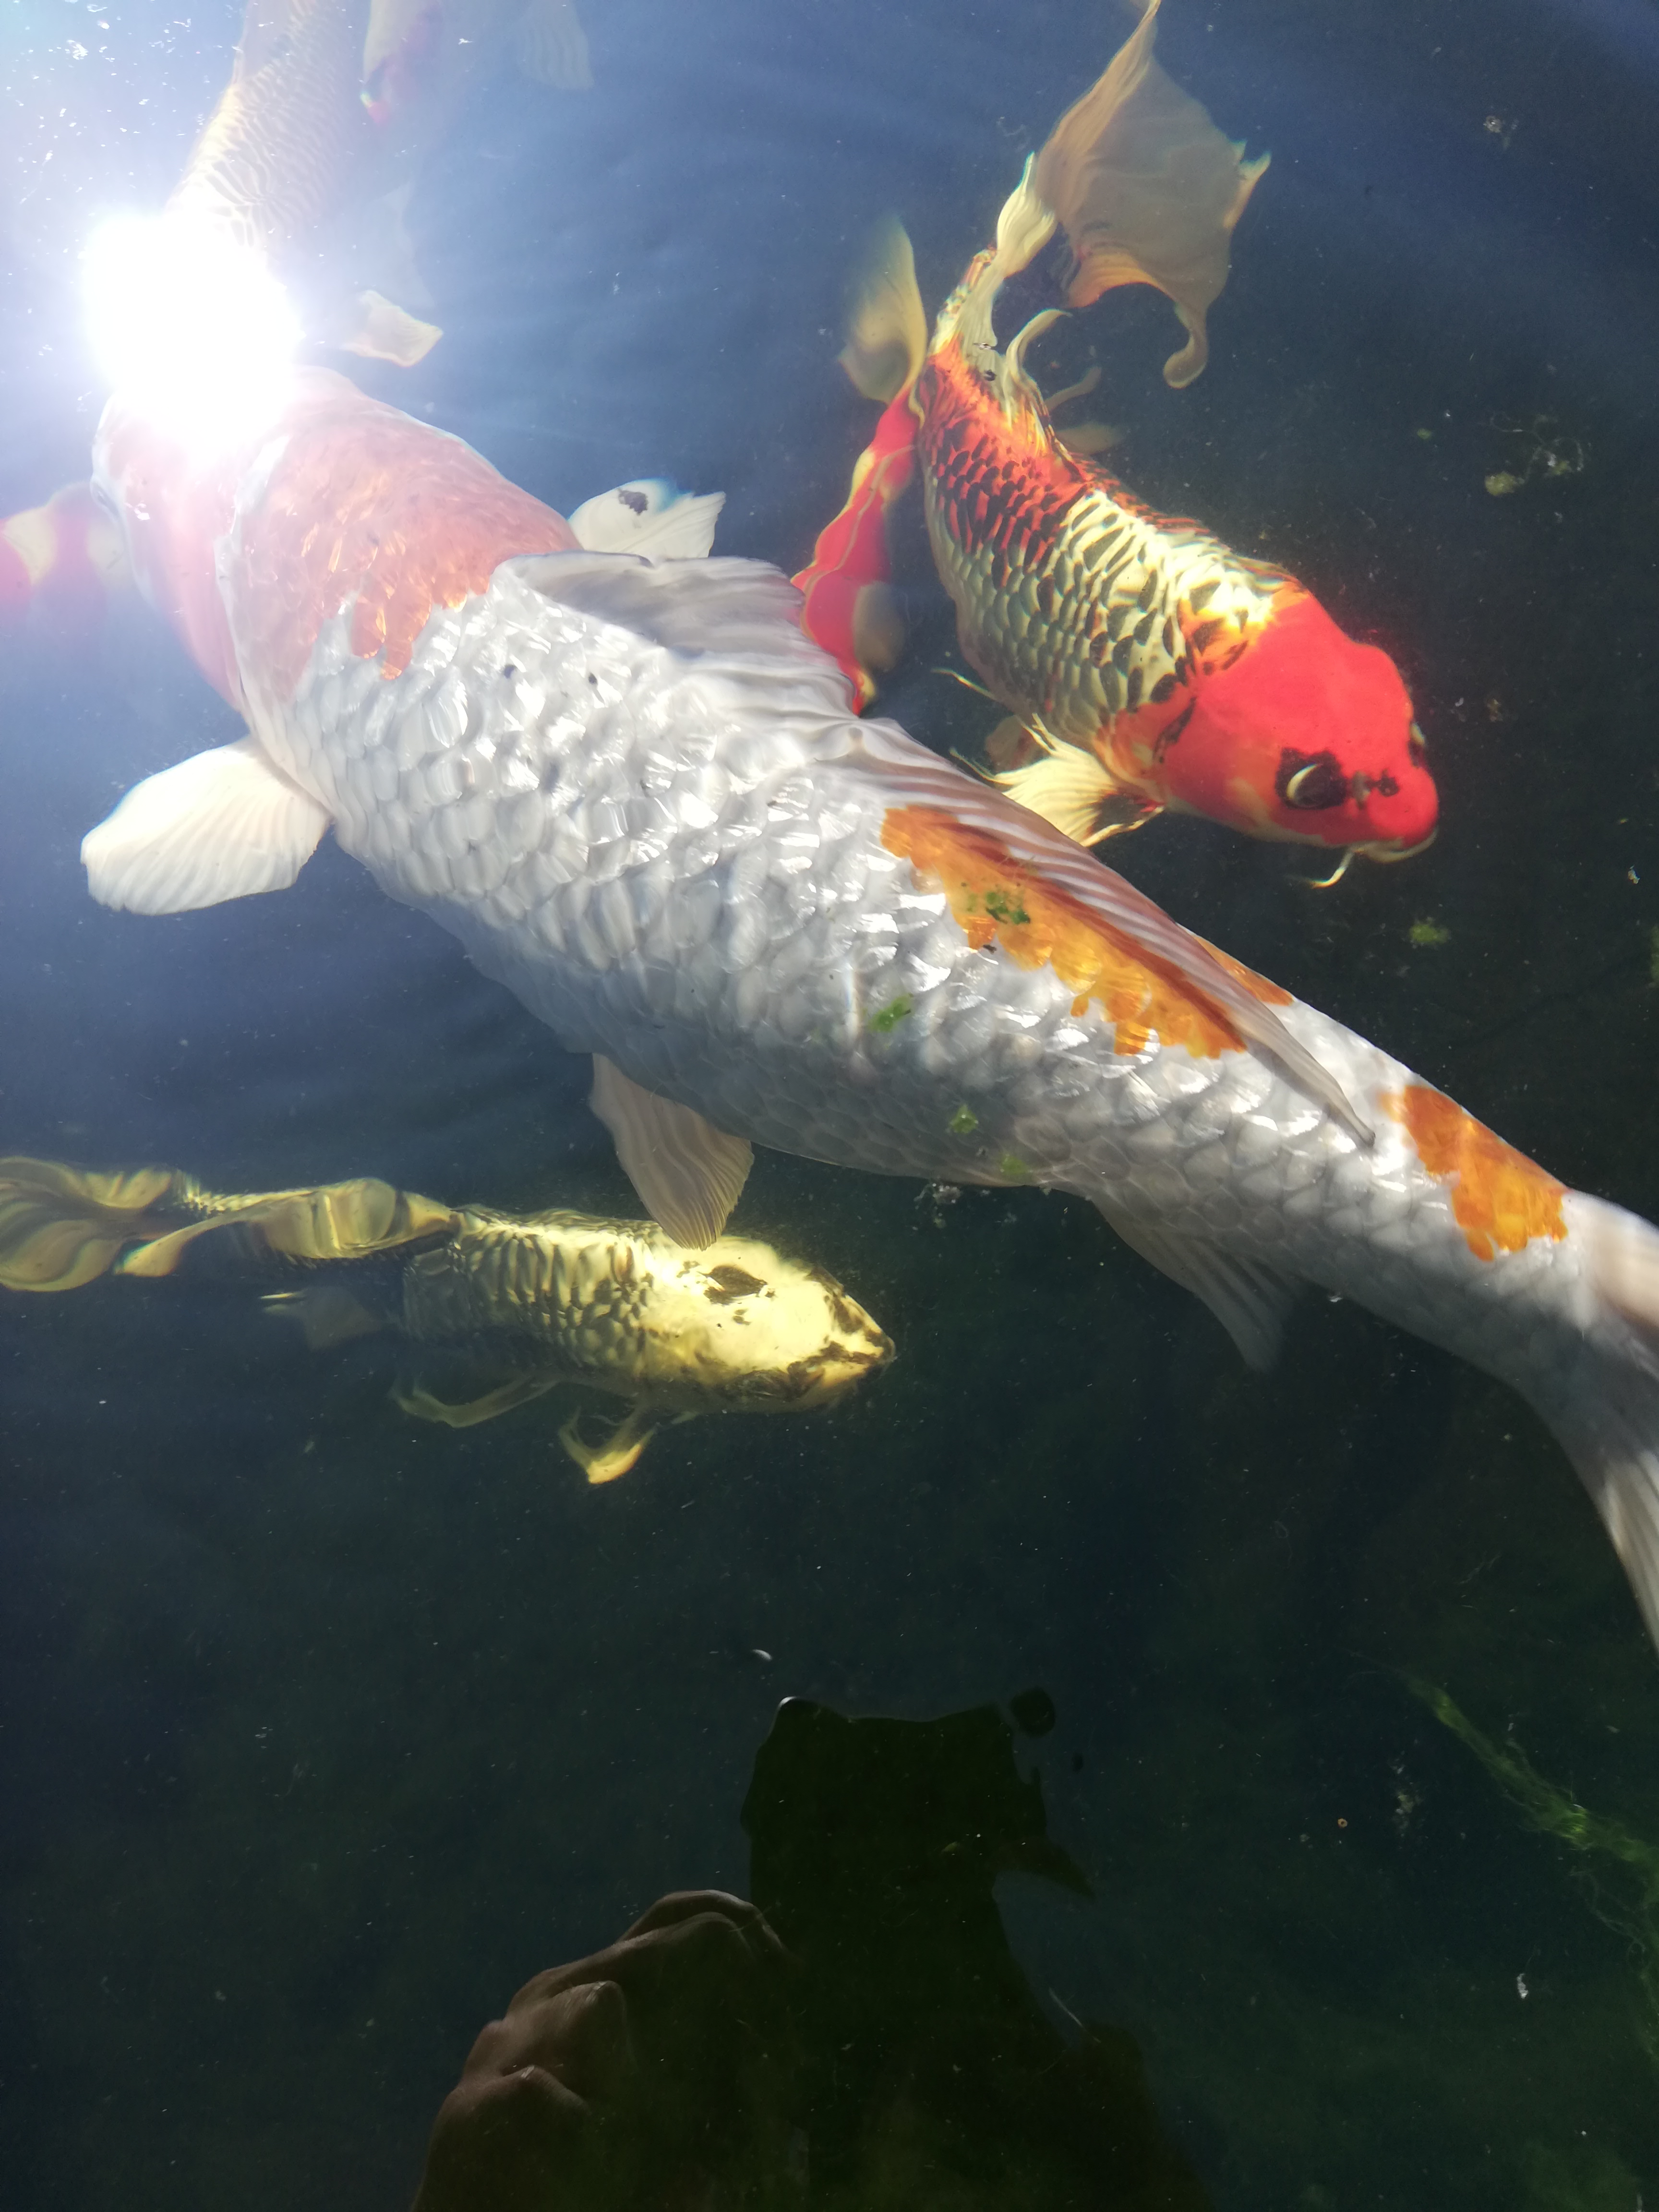Alfred2: (0, 1123, 960, 1512)
Sparkle: (44, 289, 1659, 1247)
